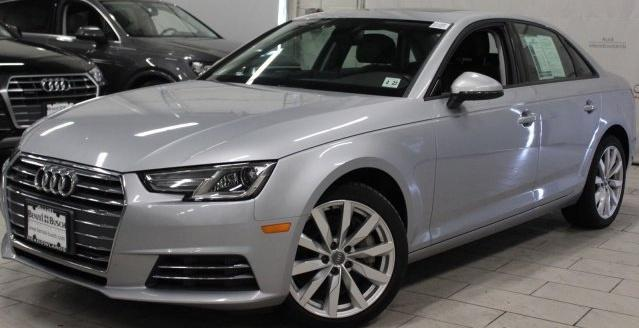Cars: (1, 12, 635, 325)
